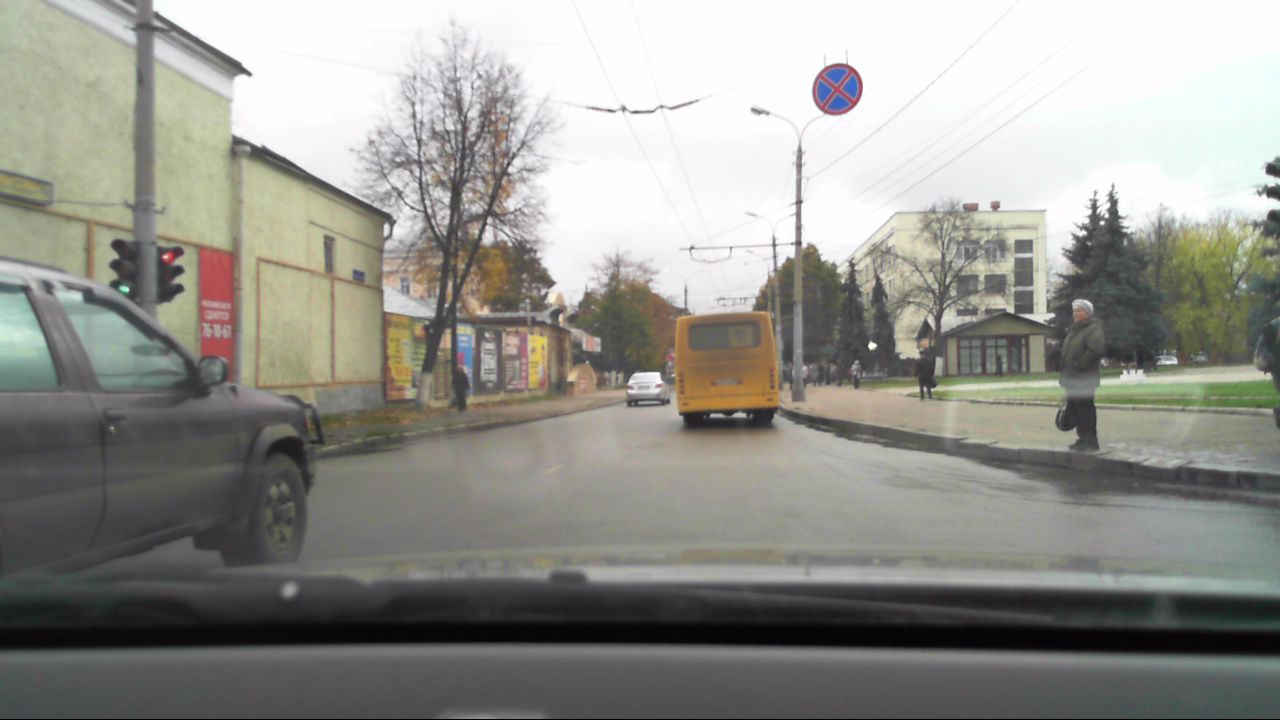No Parking: (811, 58, 864, 121)
